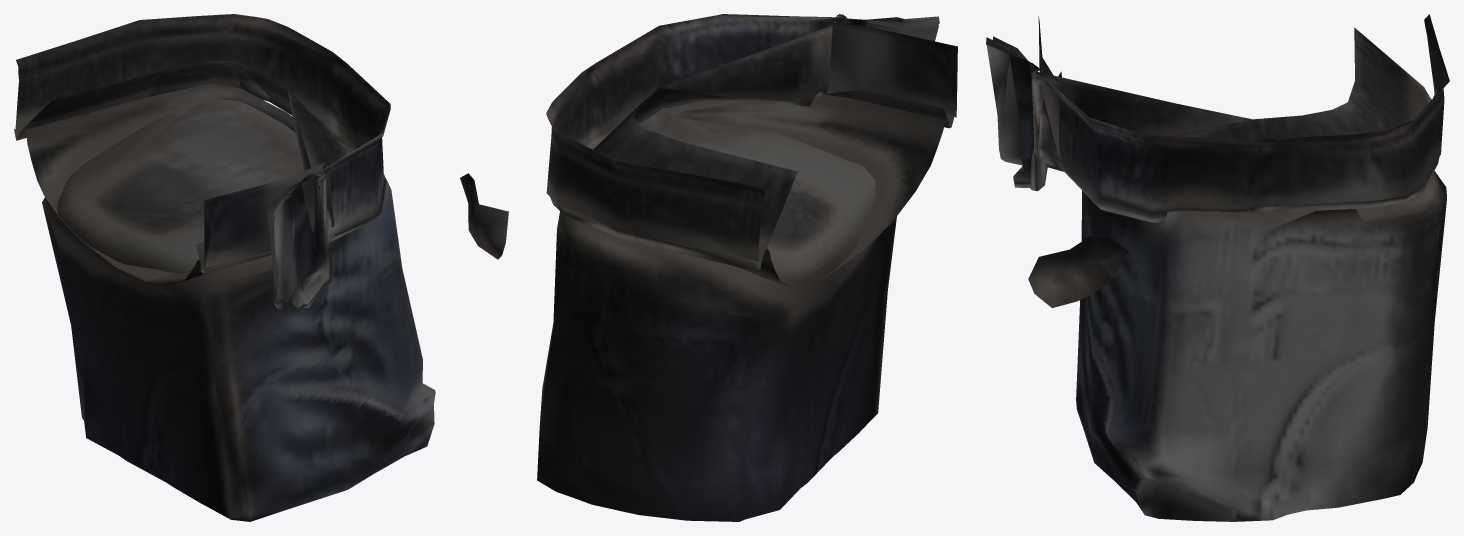
File: LeftUpperLeg.glb
The picture shows the model from 3 angles, left to right: view 1: azimuth 30°, elevation 25°; view 2: azimuth 150°, elevation 25°; view 3: azimuth 270°, elevation 25°; orthographic projection. The views are drawn at different scales.
Visible parts, largest first — view 1: LeftUpperLeg; view 2: LeftUpperLeg; view 3: LeftUpperLeg.
Boxes of the visible parts, left/top/right/bottom form: LeftUpperLeg: left=14, top=14, right=508, bottom=521; LeftUpperLeg: left=537, top=14, right=957, bottom=521; LeftUpperLeg: left=986, top=14, right=1449, bottom=521.
Bounding box in the file's own units: 1.37 × 1.51 × 1.74.
Materials: 1 (1 with a texture image).
